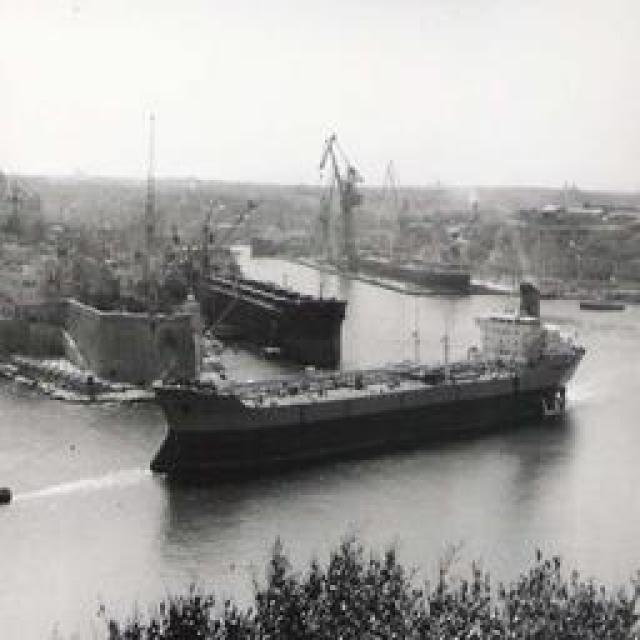Ship: (156, 245, 581, 478)
